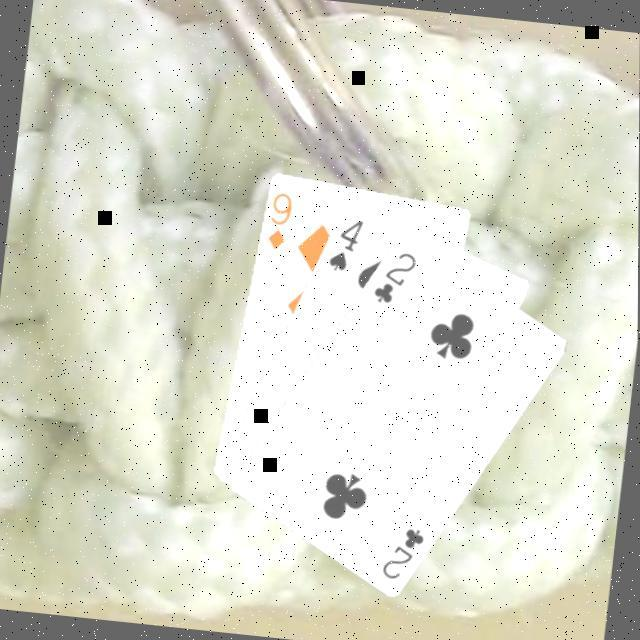2C: (369, 246, 421, 310), (378, 522, 429, 586)
4S: (324, 214, 366, 276)
9D: (264, 188, 297, 254)
